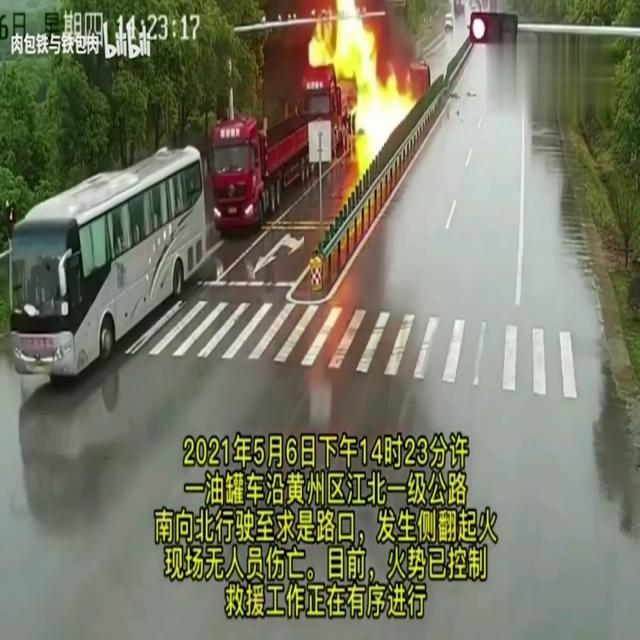multiple_accident: (246, 21, 434, 146)
normal: (9, 139, 201, 371)
